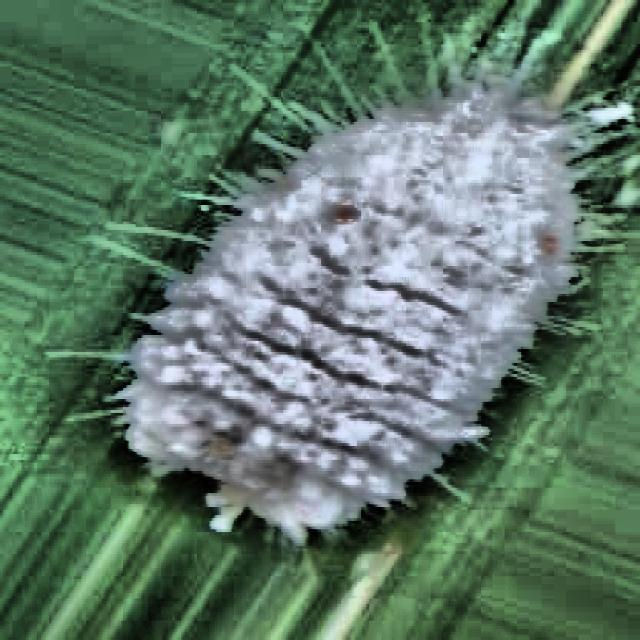Mealy-bug: (96, 29, 640, 612)
